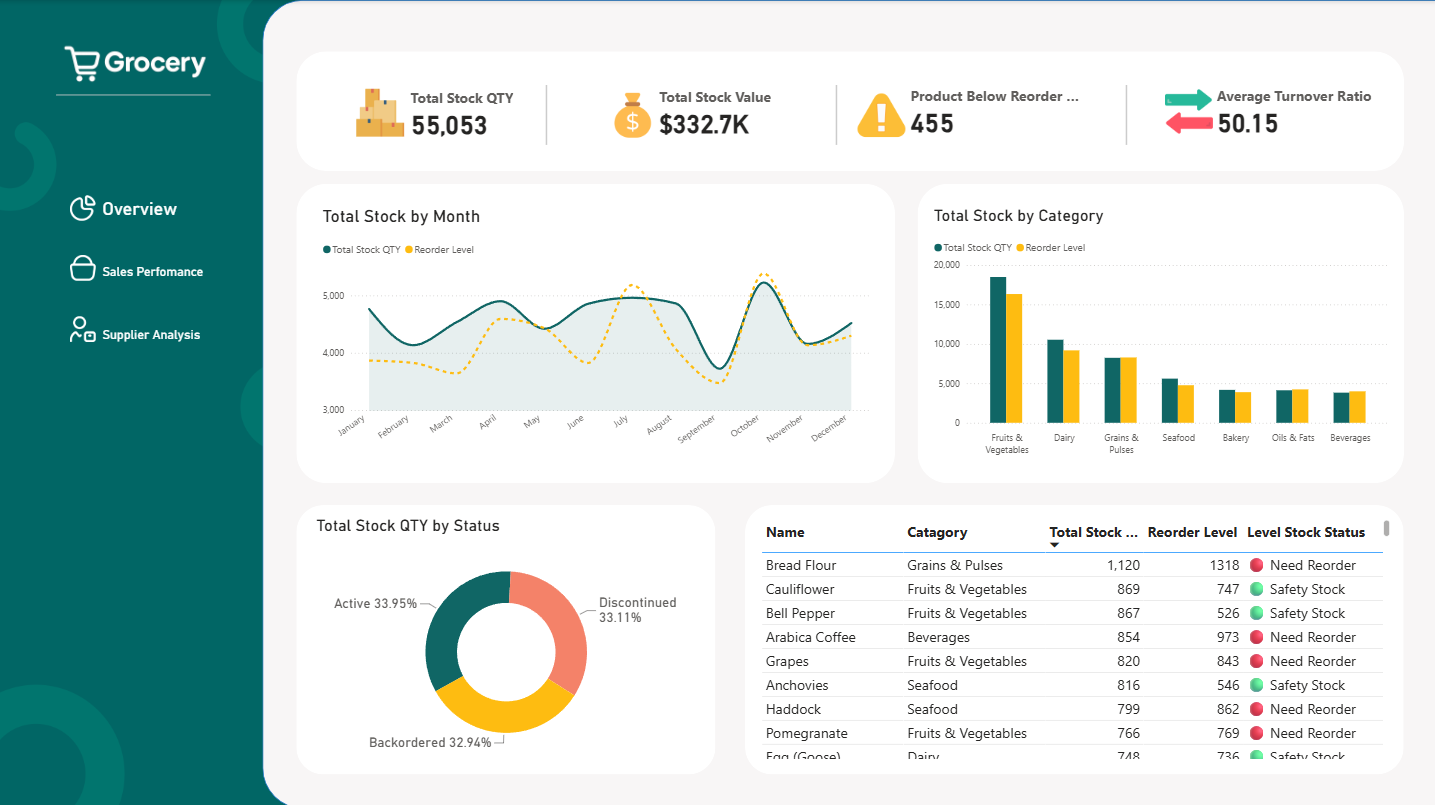

Layout of this report page (visuals, bound fields, positions):
{"tool":"powerbi","page":{"name":"Overview","canvas":[1920,1080],"ordinal":0},"visuals":[{"type":"shape","box":[350,0,1570,1080],"z":0},{"type":"image","box":[94,260,34,34],"z":0,"group":"g5"},{"type":"shape","box":[396,68,1480,160],"z":1000},{"type":"cardVisual","fields":{"Data":["_measures.Total Stock Value"]},"box":[851.3,84.8,210,130],"z":1000,"group":"g2"},{"type":"image","box":[94,422,34,34],"z":1000,"group":"g5"},{"type":"cardVisual","fields":{"Data":["_measures.Product Below Reorder Level"]},"box":[1186.7,84,286,130],"z":2000,"group":"g3"},{"type":"shape","box":[698,114,64,80],"z":2000},{"type":"image","box":[94,341,34,34],"z":2000,"group":"g5"},{"type":"cardVisual","fields":{"Data":["_measures.Average Turnover Ratio"]},"box":[1596,84,280,130],"z":3000,"group":"g4"},{"type":"shape","box":[1085,114,64,80],"z":3000},{"type":"shape","box":[1472,114,64,80],"z":4000},{"type":"pageNavigator","box":[138,242,180,242],"z":4000,"group":"g5"},{"type":"group","id":"g1","title":"Group 1","box":[476,86,254,130],"z":5000},{"type":"image","box":[813.3,120.8,64,64],"z":5000,"group":"g2"},{"type":"group","id":"g2","title":"Group 2","box":[813.3,84.8,248,130],"z":6000},{"type":"image","box":[1144.7,122,64,64],"z":6000,"group":"g3"},{"type":"group","id":"g3","title":"Group 3","box":[1144.7,84,328,130],"z":7000},{"type":"image","box":[1556,118,64,64],"z":7000,"group":"g4"},{"type":"group","id":"g4","title":"Group 4","box":[1556,84,320,130],"z":8000},{"type":"cardVisual","fields":{"Data":["_measures.Total Stock QTY"]},"box":[520,86,210,130],"z":8000,"group":"g1"},{"type":"image","box":[476,118,64,64],"z":9000,"group":"g1"},{"type":"shape","box":[396,246,800,400],"z":9000},{"type":"lineChart","title":"Total Stock by Month","fields":{"Category":["Grocery_Inventory new v1.Date_Received.Variation.Date Hierarchy.Month"],"Y":["_measures.Total Stock QTY","_measures.Reorder Level"]},"box":[426,276,740,340],"z":10000},{"type":"shape","box":[1226,246,650,400],"z":11000},{"type":"clusteredColumnChart","title":"Total Stock by Category","fields":{"Category":["Grocery_Inventory new v1.Catagory"],"Y":["_measures.Total Stock QTY","_measures.Reorder Level"]},"box":[1242,276,620,340],"z":12000},{"type":"shape","box":[396,674,560,360],"z":13000},{"type":"donutChart","fields":{"Category":["Grocery_Inventory new v1.Status"],"Y":["_measures.Total Stock QTY"]},"box":[418,690,518,328],"z":14000},{"type":"shape","box":[996,674,880,360],"z":15000},{"type":"tableEx","fields":{"Values":["Grocery_Inventory new v1.Product_Name","Grocery_Inventory new v1.Catagory","_measures.Total Stock QTY","_measures.Reorder Level","_measures.Level Stock Status"]},"box":[1012,690,850,328],"z":16000},{"type":"group","id":"g5","title":"Group 5","box":[94,242,224,242],"z":17000},{"type":"image","box":[44,4,272.4,163.8],"z":17001,"group":"g6"},{"type":"shape","box":[76,88,206,80],"z":17002,"group":"g6"},{"type":"group","id":"g6","title":"Group 6","box":[44,4,272.4,164],"z":17003}]}

Visuals, with their boxes in screenshot pixels (x1, y1, x2, y2), scaled from the page's 1920x1080 canvas onto the 1435x805 screenshot:
shape: <region>262, 0, 1434, 804</region>
image: <region>70, 194, 96, 219</region>
shape: <region>296, 51, 1402, 170</region>
cardVisual - _measures.Total Stock Value: <region>636, 63, 793, 160</region>
image: <region>70, 315, 96, 340</region>
cardVisual - _measures.Product Below Reorder Level: <region>887, 63, 1101, 160</region>
shape: <region>522, 85, 570, 145</region>
image: <region>70, 254, 96, 280</region>
cardVisual - _measures.Average Turnover Ratio: <region>1193, 63, 1402, 160</region>
shape: <region>811, 85, 859, 145</region>
shape: <region>1100, 85, 1148, 145</region>
pageNavigator: <region>103, 180, 238, 361</region>
"Group 1" group: <region>356, 64, 546, 161</region>
image: <region>608, 90, 656, 138</region>
"Group 2" group: <region>608, 63, 793, 160</region>
image: <region>856, 91, 903, 139</region>
"Group 3" group: <region>856, 63, 1101, 160</region>
image: <region>1163, 88, 1211, 136</region>
"Group 4" group: <region>1163, 63, 1402, 160</region>
cardVisual - _measures.Total Stock QTY: <region>389, 64, 546, 161</region>
image: <region>356, 88, 404, 136</region>
shape: <region>296, 183, 894, 482</region>
"Total Stock by Month" lineChart: <region>318, 206, 871, 459</region>
shape: <region>916, 183, 1402, 482</region>
"Total Stock by Category" clusteredColumnChart: <region>928, 206, 1392, 459</region>
shape: <region>296, 502, 715, 771</region>
donutChart - Grocery_Inventory new v1.Status x _measures.Total Stock QTY: <region>312, 514, 700, 759</region>
shape: <region>744, 502, 1402, 771</region>
tableEx - Grocery_Inventory new v1.Product_Name x Grocery_Inventory new v1.Catagory: <region>756, 514, 1392, 759</region>
"Group 5" group: <region>70, 180, 238, 361</region>
image: <region>33, 3, 236, 125</region>
shape: <region>57, 66, 211, 125</region>
"Group 6" group: <region>33, 3, 236, 125</region>
